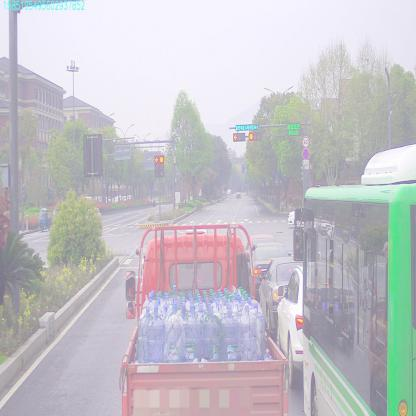traffic-light: (236, 123, 260, 130), (248, 134, 261, 140), (234, 134, 243, 140)
